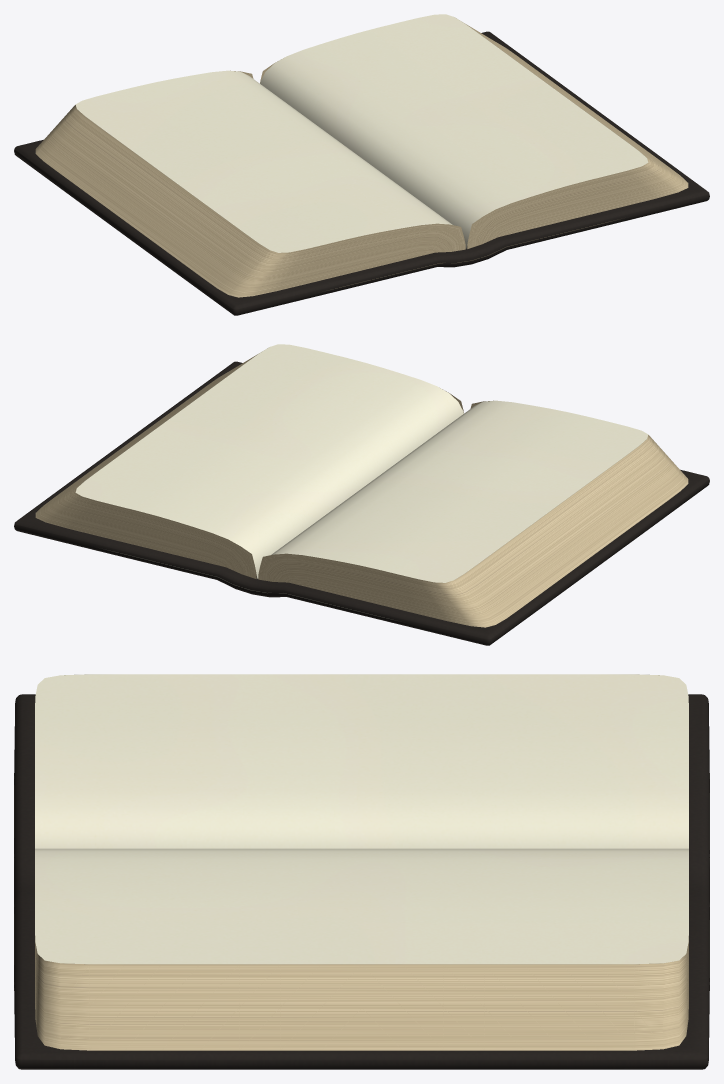
File: bible_prop.fbx
The picture shows the model from 3 angles, top to bottom: view 1: azimuth 30°, elevation 25°; view 2: azimuth 150°, elevation 25°; view 3: azimuth 270°, elevation 25°; orthographic projection. The views are drawn at different scales.
Visible parts, largest first — view 1: bible_prop; view 2: bible_prop; view 3: bible_prop.
Part boxes in pixels (x1,y1,x2,y2): bible_prop: [14, 14, 709, 315]; bible_prop: [14, 344, 709, 645]; bible_prop: [14, 674, 709, 1069].
Bounding box in the file's own units: 69.02 × 7.06 × 55.6.
